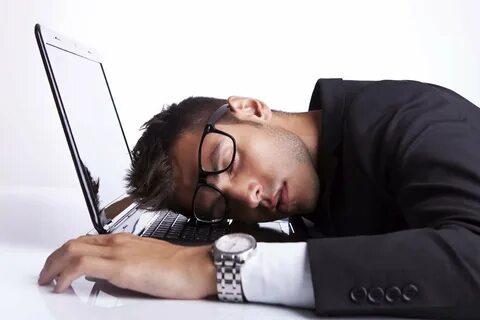sleep: (90, 77, 479, 307)
